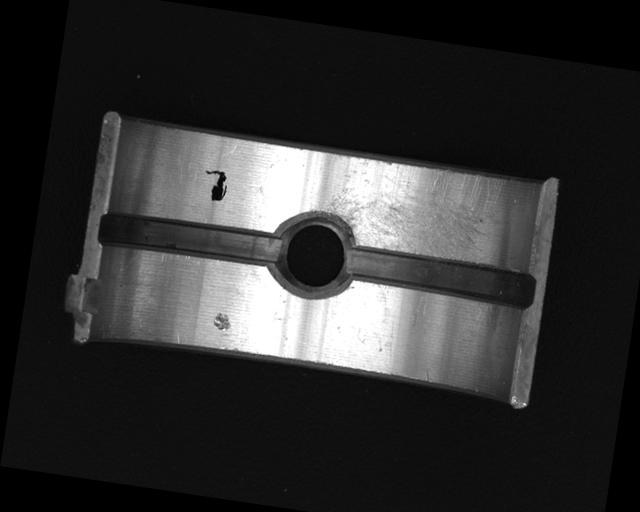blot: (200, 167, 231, 203)
bruise: (212, 311, 233, 332)
gap: (342, 242, 538, 312), (99, 208, 284, 270)
hole: (268, 206, 360, 302)
scratch: (321, 152, 519, 267)
